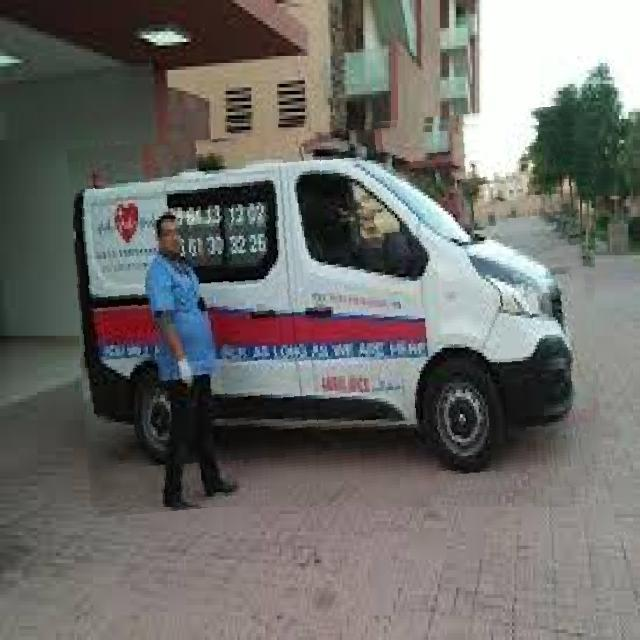ambulance: (73, 115, 598, 507)
